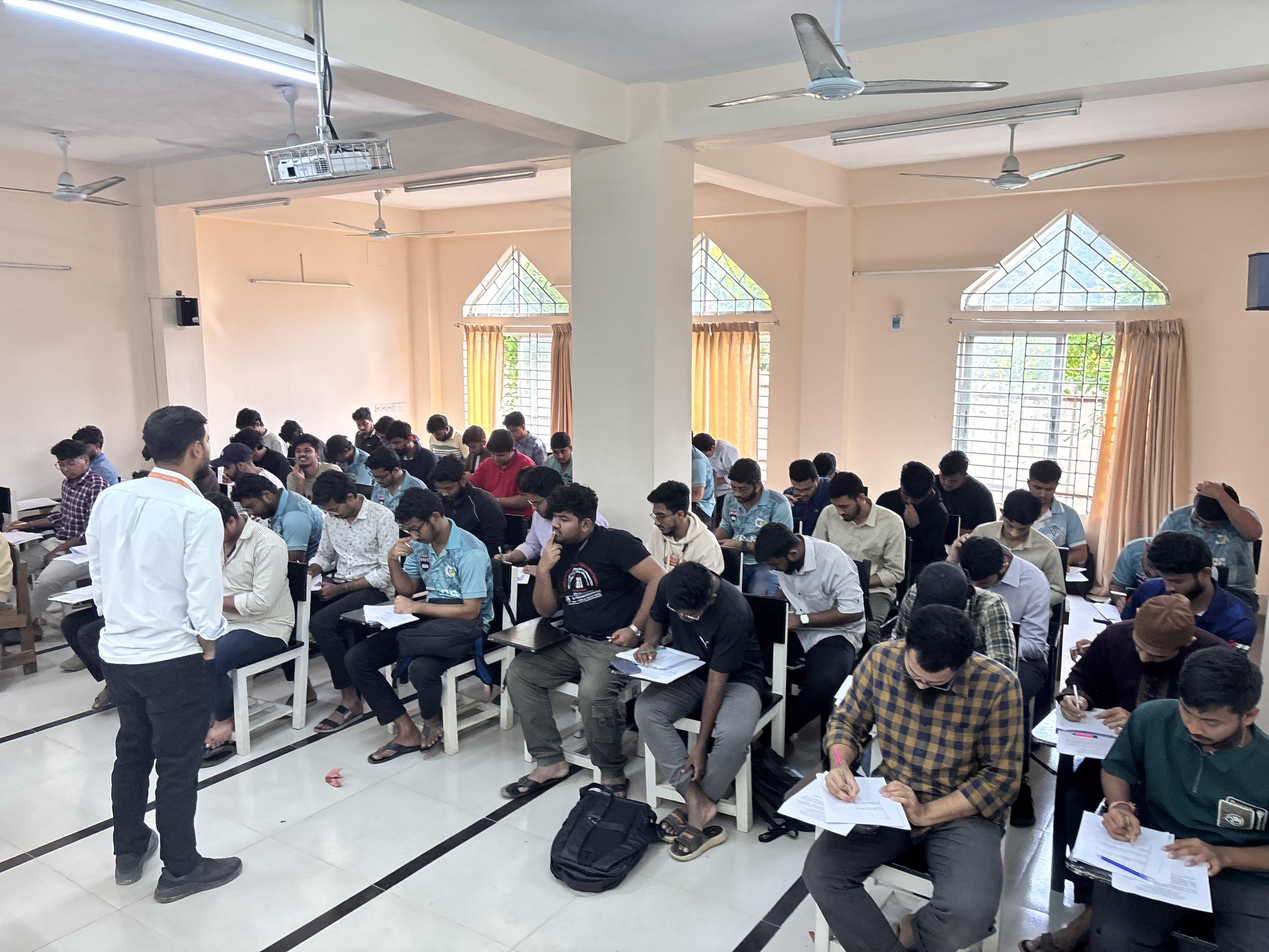invigilator: (116, 406, 217, 758)
no_cheating: (810, 615, 1010, 906), (1099, 667, 1269, 952), (362, 499, 497, 696), (516, 505, 625, 719), (645, 577, 750, 769), (1062, 615, 1193, 748), (306, 482, 394, 615), (743, 534, 859, 633), (1131, 541, 1243, 623), (628, 486, 718, 579), (491, 464, 575, 560), (821, 481, 910, 569), (1177, 467, 1261, 555), (948, 545, 1034, 610), (234, 466, 310, 531), (718, 459, 776, 539), (1020, 459, 1081, 534), (974, 497, 1044, 558), (424, 468, 488, 534), (881, 456, 939, 526), (466, 438, 524, 506), (936, 454, 991, 520), (352, 455, 418, 506), (782, 451, 822, 517), (323, 434, 370, 476), (690, 430, 740, 468), (534, 431, 572, 478), (505, 405, 542, 448), (428, 411, 463, 450), (382, 428, 424, 459), (345, 406, 379, 440)
suspicious_moving: (285, 434, 323, 474)
